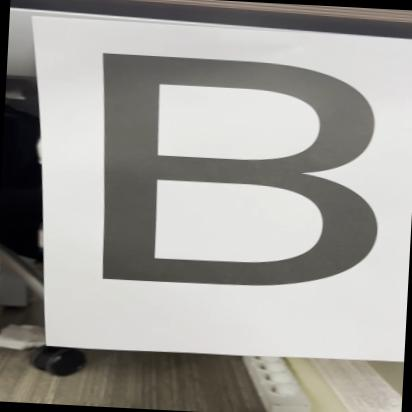seat: (63, 32, 412, 311)
